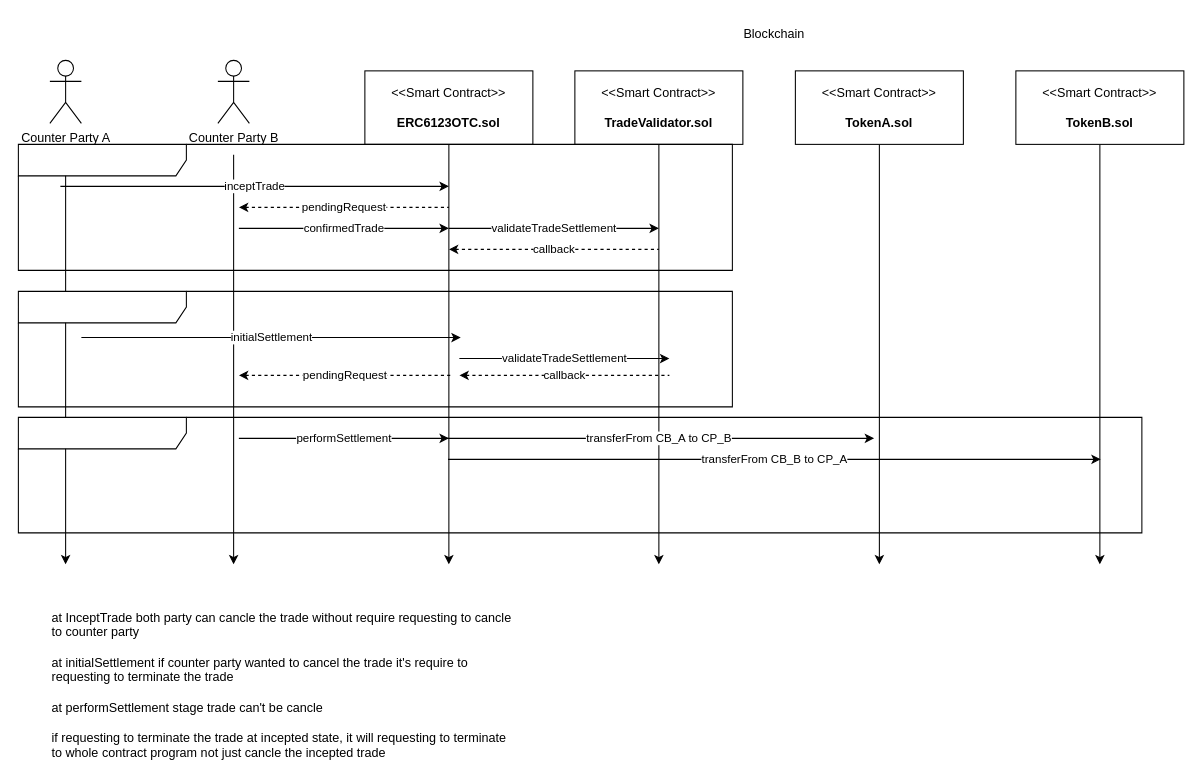
Some shapes in this 1202 by 778 pixel diagram are drawn without their labels. Here are the shapes that lost their labels. From the top down, the box of each, then its label:
(17, 143, 732, 270): InceptTrade #0
(17, 290, 732, 407): InitialSettlement #1
(17, 416, 1142, 533): performSettlement #2
